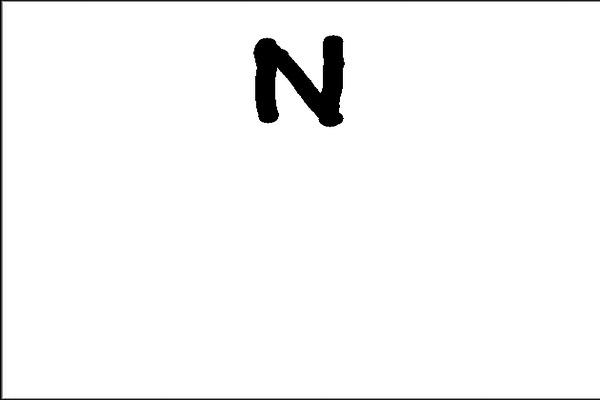N: (247, 29, 354, 135)
